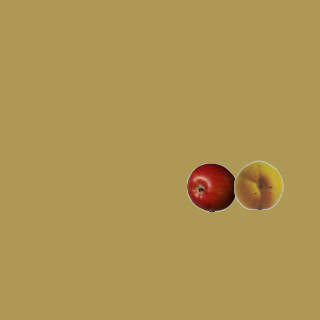Apple Braeburn: (186, 162, 236, 212)
Peach 2: (233, 159, 283, 209)
